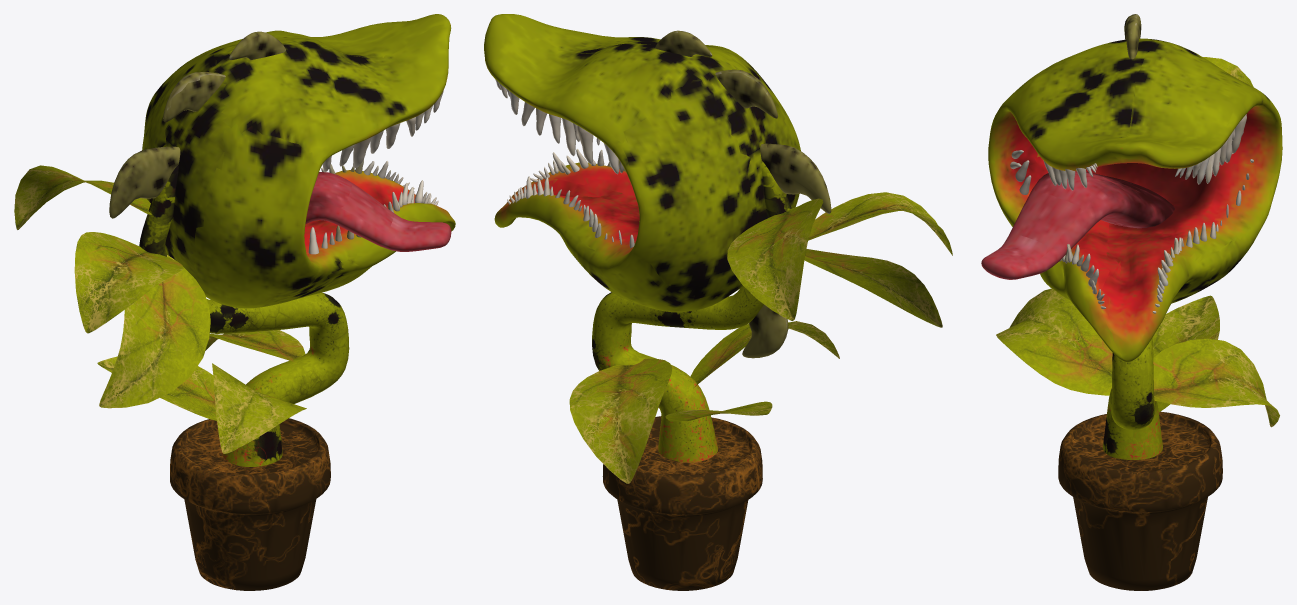
Rendered from ZombiePlant.fbx.
The picture shows the model from 3 angles, left to right: view 1: azimuth 30°, elevation 25°; view 2: azimuth 150°, elevation 25°; view 3: azimuth 270°, elevation 25°; orthographic projection. The views are drawn at different scales.
Parts seen in each view (by area): view 1: MonsterPlant; view 2: MonsterPlant; view 3: MonsterPlant.
Part boxes in pixels (left/top/right/bottom): MonsterPlant: left=14, top=14, right=455, bottom=590; MonsterPlant: left=484, top=14, right=952, bottom=590; MonsterPlant: left=981, top=14, right=1282, bottom=590.
Size of the model in its own units: 257 by 321 by 159.
